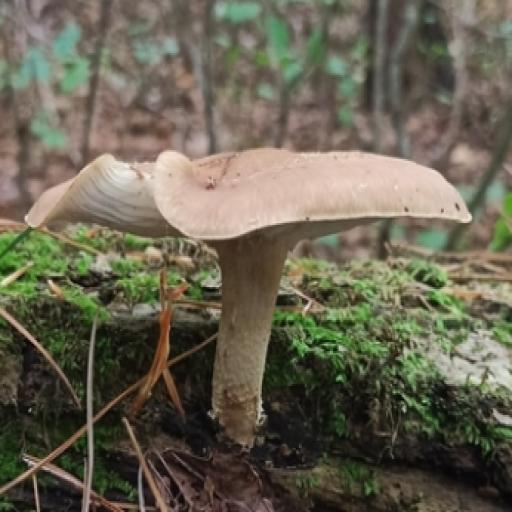Shiitake Mushroom: (16, 0, 467, 444)
